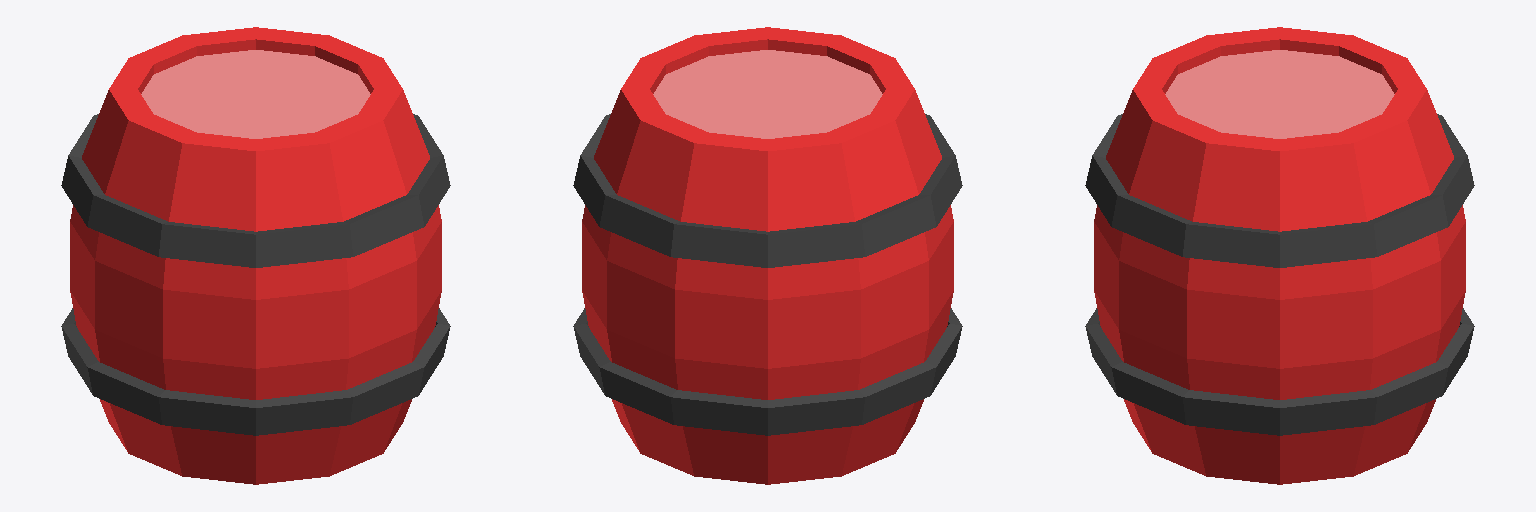
3 renders of one model, left to right at view 1: azimuth 30°, elevation 25°; view 2: azimuth 150°, elevation 25°; view 3: azimuth 270°, elevation 25°, orthographic.
Parts seen in each view (by area): view 1: bomb; view 2: bomb; view 3: bomb.
Part boxes in pixels (bbox=[...]): bomb: bbox=[61, 27, 450, 484]; bomb: bbox=[573, 27, 962, 484]; bomb: bbox=[1085, 27, 1474, 484].
Bounding box in the file's own units: 2.65 × 2.5 × 2.65.
Materials: 1 (1 with a texture image).